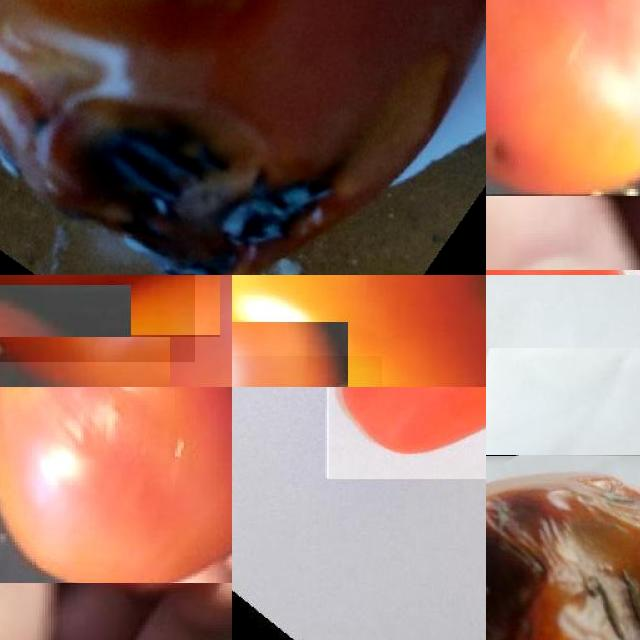Fresh Tomato: (232, 275, 486, 387), (326, 387, 486, 479), (117, 275, 232, 387)
Rotten Tomato: (0, 0, 486, 275), (0, 387, 232, 582), (486, 0, 640, 193), (486, 455, 640, 640)
